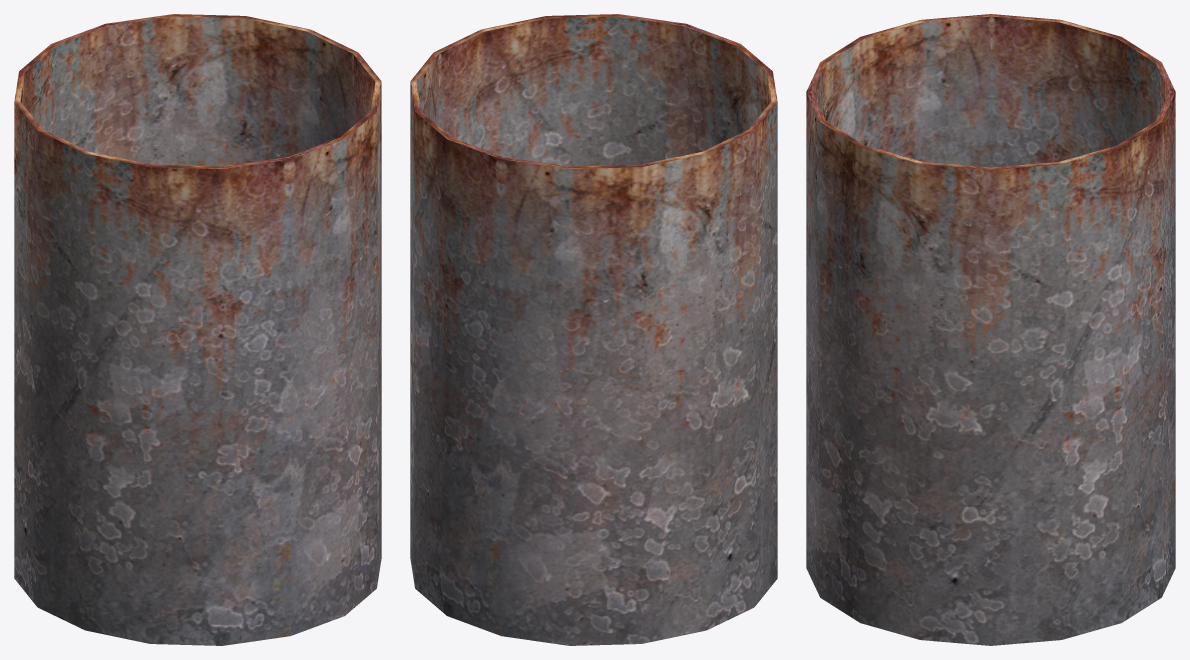
File: cleaning_trashcan.dae
The picture shows the model from 3 angles, left to right: view 1: azimuth 30°, elevation 25°; view 2: azimuth 150°, elevation 25°; view 3: azimuth 270°, elevation 25°; orthographic projection.
Visible parts, largest first — view 1: trashcan01; view 2: trashcan01; view 3: trashcan01.
Part boxes in pixels (box(x1,y1,x2,y2)): trashcan01: box(14, 14, 381, 645); trashcan01: box(410, 14, 777, 645); trashcan01: box(806, 14, 1175, 645).
Size of what is drawn, in the model's own units: 0.6388 by 0.9072 by 0.6388.
